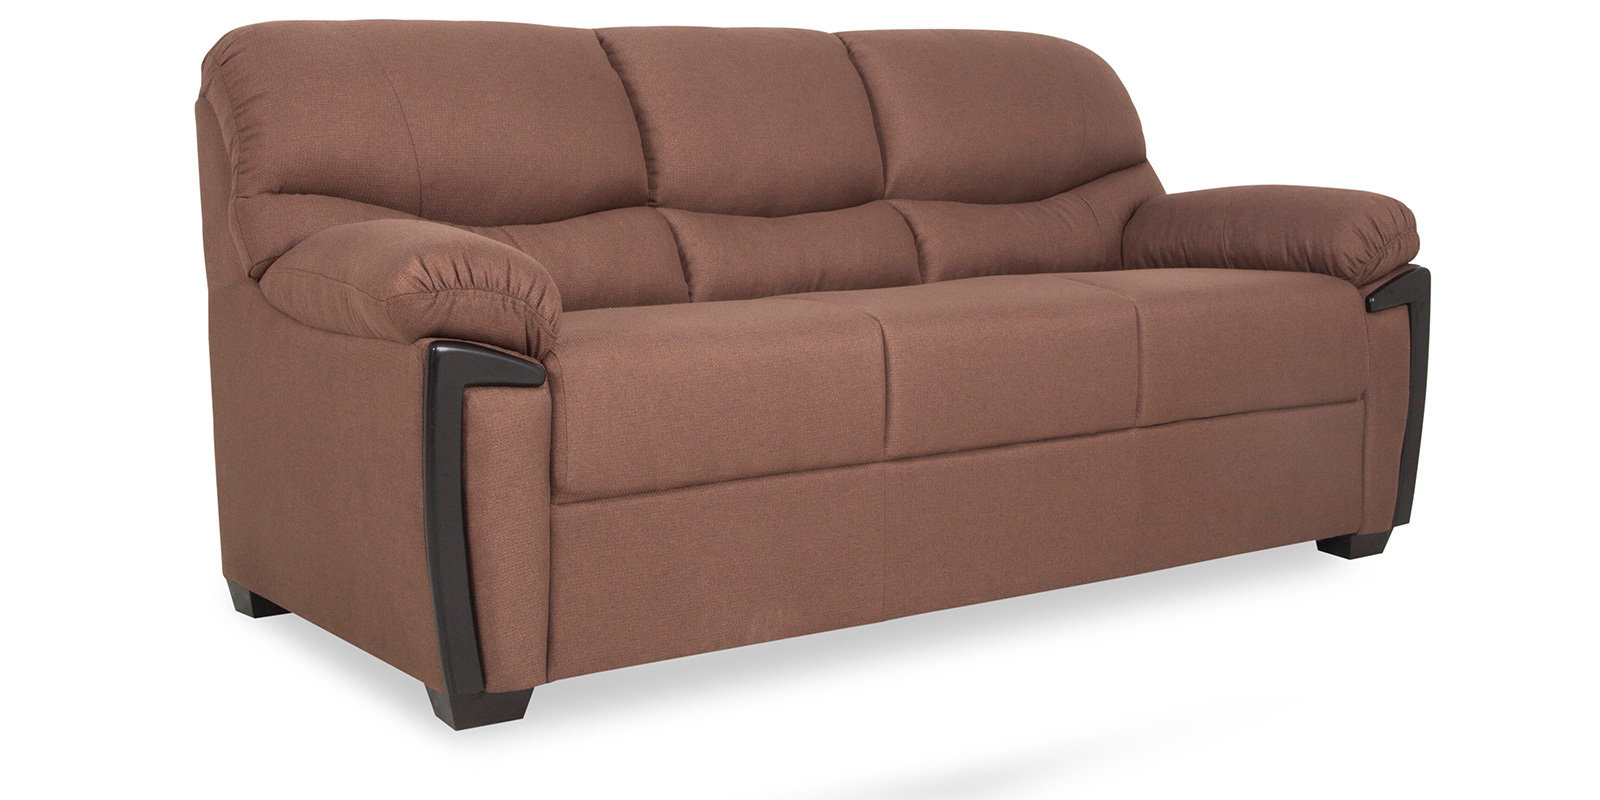Memphis Monarch Three Seater Sofa in Dark Brown Colour by Urban Living: (192, 18, 1434, 731)
